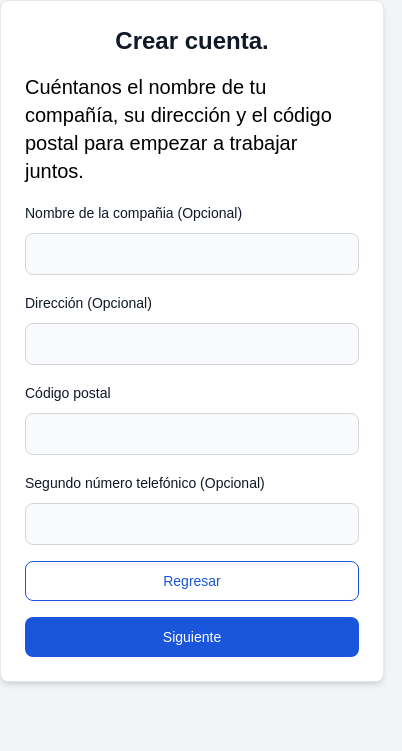
CompanyDetails › shows validation error for invalid second phone number format
In the field labelled "Segundo número telefónico (Opcional)": (192, 524) [25, 503, 359, 545], type "555abc1234"
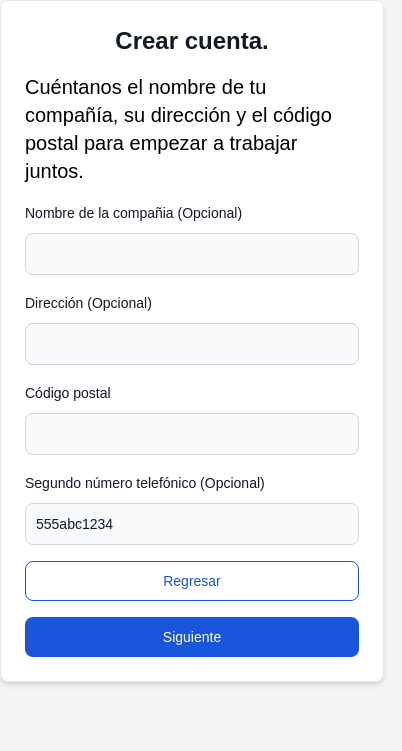
In the field labelled "Código postal": (192, 434) [25, 413, 359, 455], type "1234"
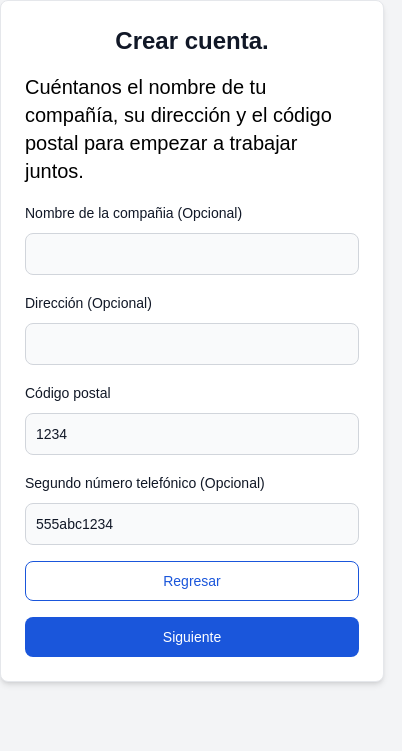
Click the button "Siguiente": (192, 637) [25, 617, 359, 657]
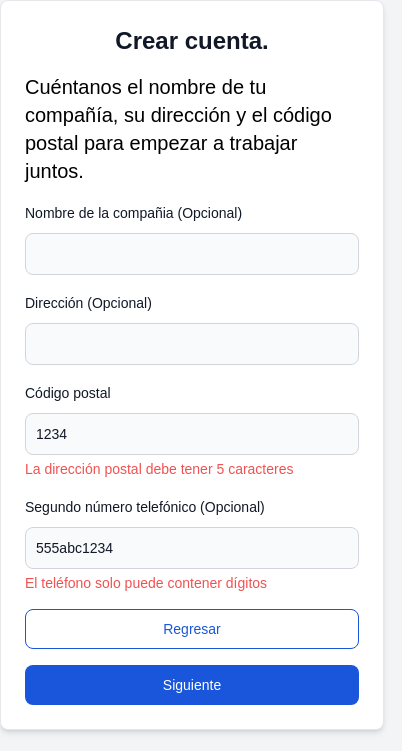
Now the text "El teléfono solo puede contener dígitos" is shown, box [25, 575, 267, 591]
